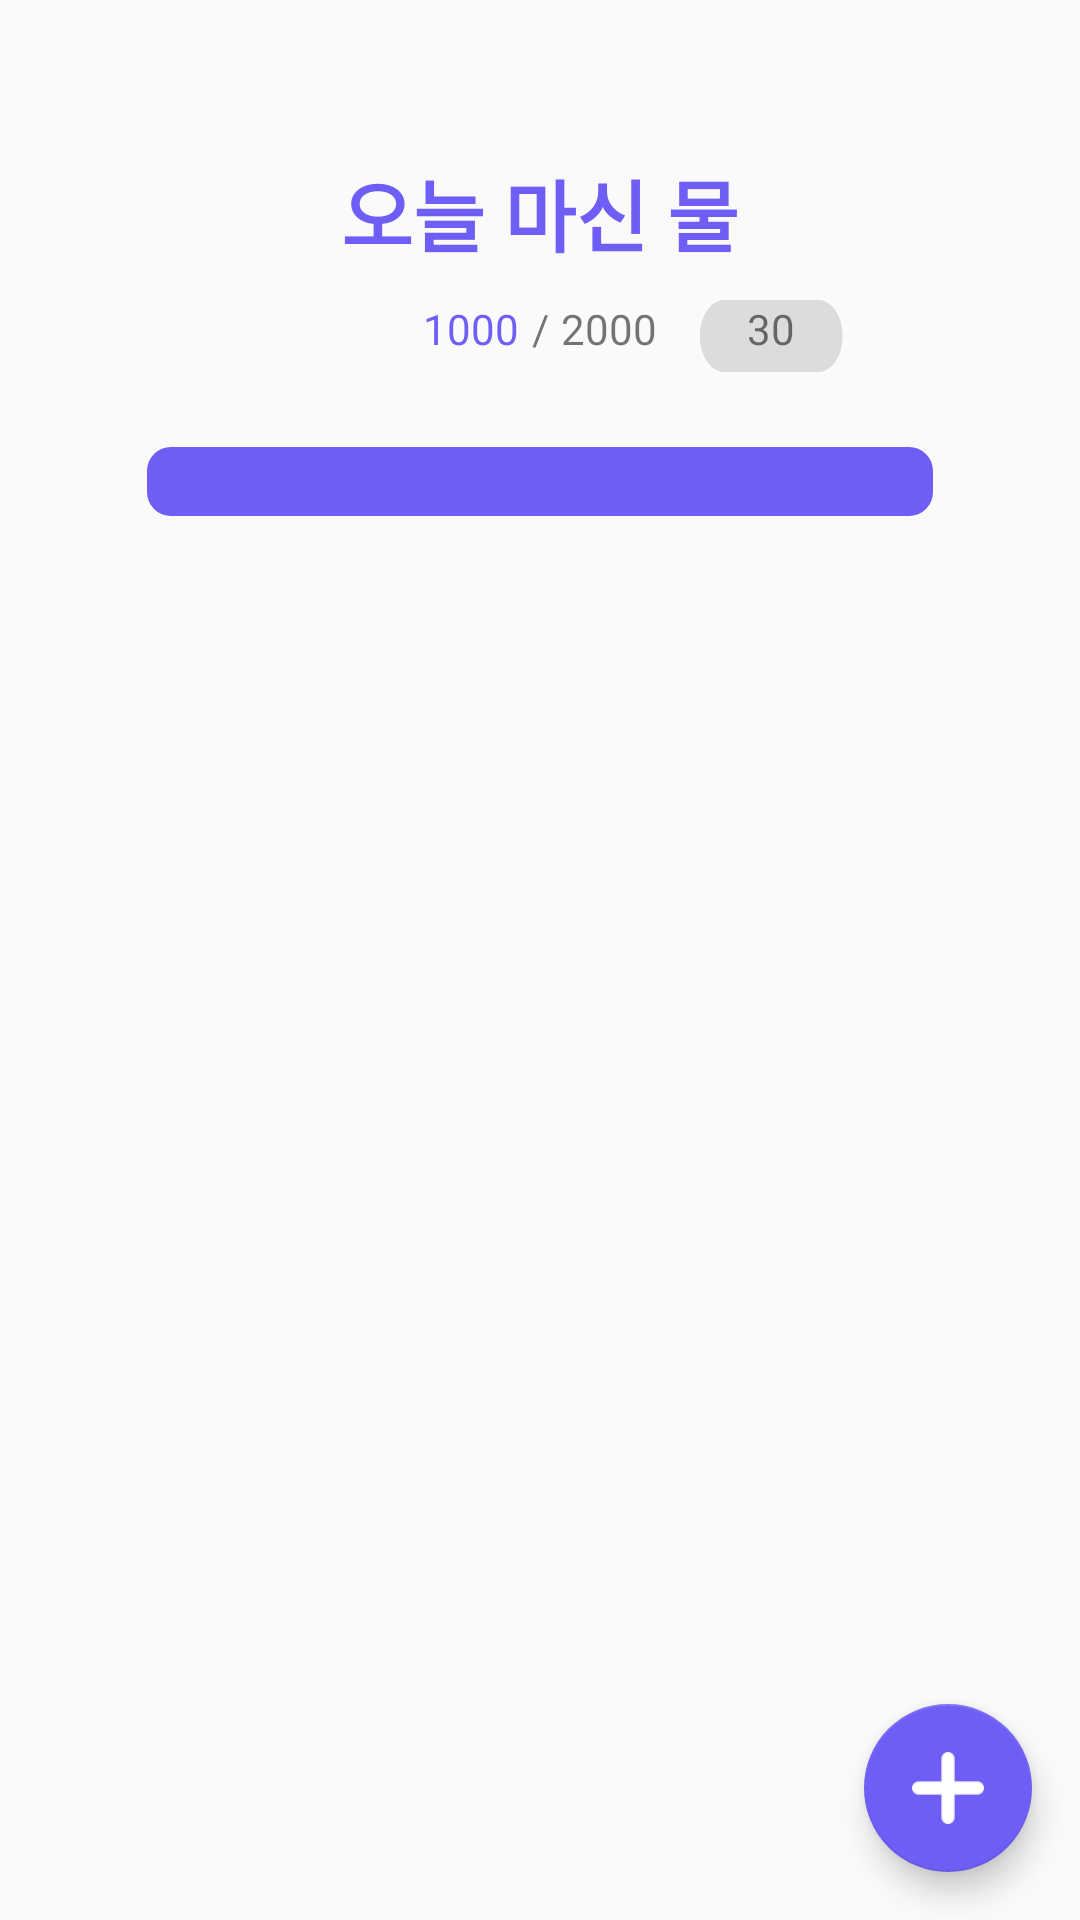

Screen size 1080 x 1920. Icon name, then its center in pixels as (x,y):
plusmark: (948,1788)
